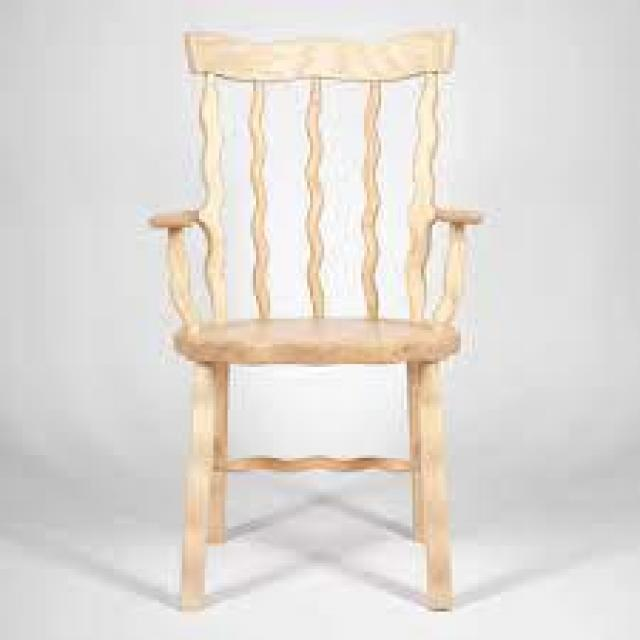chair: (135, 19, 491, 610)
